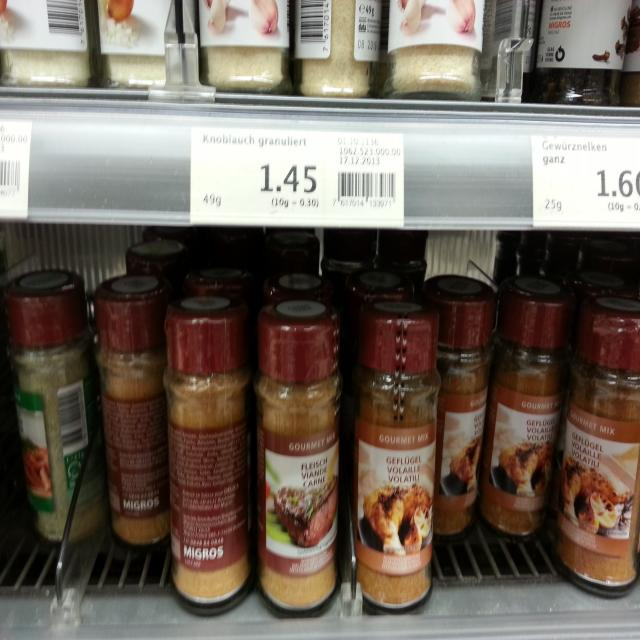Spices: (158, 288, 254, 621), (250, 291, 343, 622), (0, 270, 104, 550), (354, 288, 435, 625), (552, 291, 640, 598), (483, 268, 569, 536), (93, 264, 170, 556), (426, 275, 496, 541)
